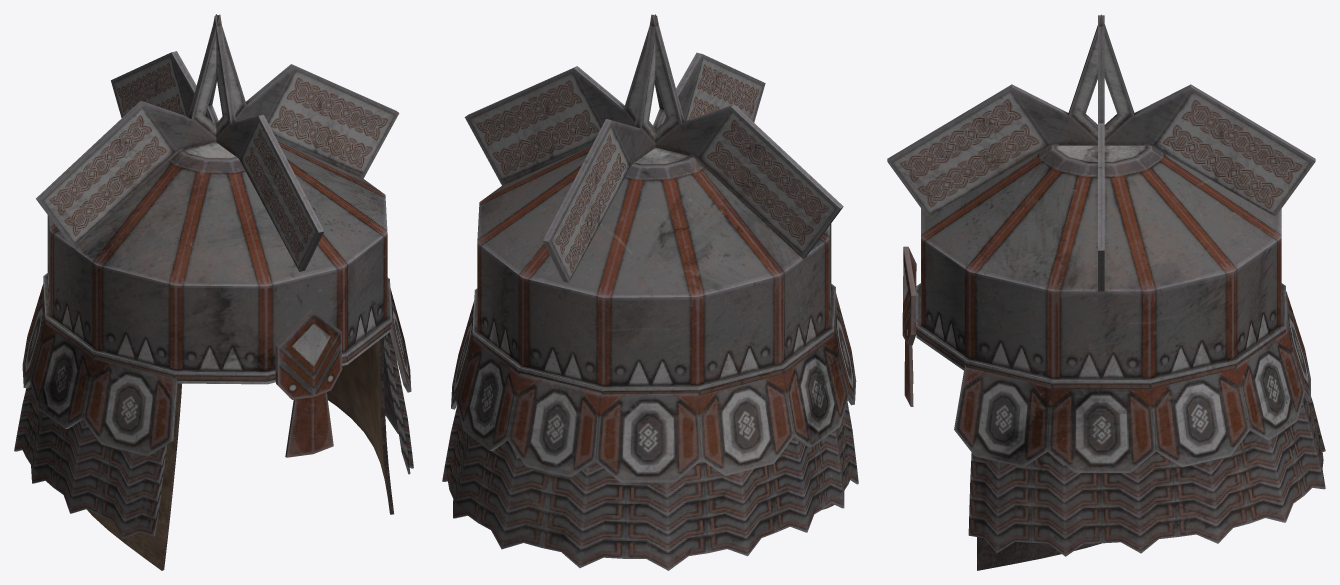
The model's file is sk_dwarf_iron_helmet_elite_a3.fbx.
3 renders of one model, left to right at view 1: azimuth 30°, elevation 25°; view 2: azimuth 150°, elevation 25°; view 3: azimuth 270°, elevation 25°, orthographic. The views are drawn at different scales.
Visible parts, largest first — view 1: sk_dwarf_iron_helmet_elite_a3.1, sk_dwarf_iron_helmet_elite_a3.0; view 2: sk_dwarf_iron_helmet_elite_a3.1, sk_dwarf_iron_helmet_elite_a3.0; view 3: sk_dwarf_iron_helmet_elite_a3.1, sk_dwarf_iron_helmet_elite_a3.0.
Boxes of the visible parts, <box> form: sk_dwarf_iron_helmet_elite_a3.1: <box>36,14,399,570</box>; sk_dwarf_iron_helmet_elite_a3.0: <box>14,284,413,538</box>; sk_dwarf_iron_helmet_elite_a3.1: <box>464,14,843,509</box>; sk_dwarf_iron_helmet_elite_a3.0: <box>442,293,858,570</box>; sk_dwarf_iron_helmet_elite_a3.1: <box>887,14,1315,570</box>; sk_dwarf_iron_helmet_elite_a3.0: <box>954,291,1325,556</box>.
Size of the model in its own units: 0.3245 by 0.3322 by 0.4159.
